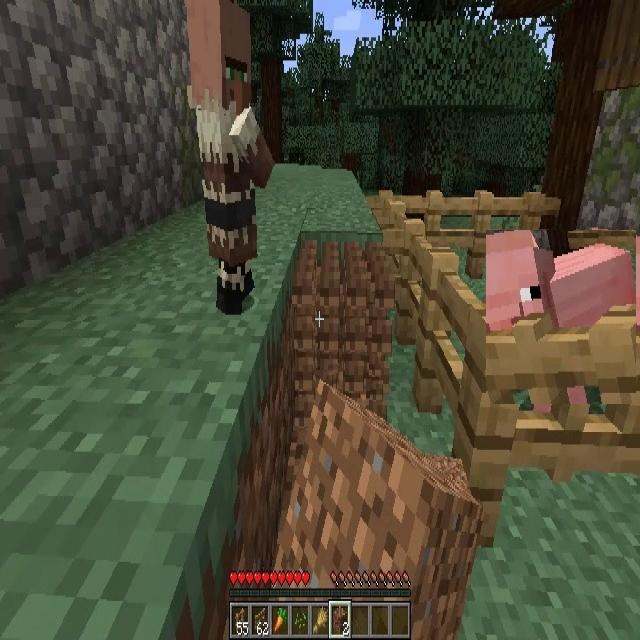people: (185, 0, 276, 313)
pig: (486, 230, 636, 404)
